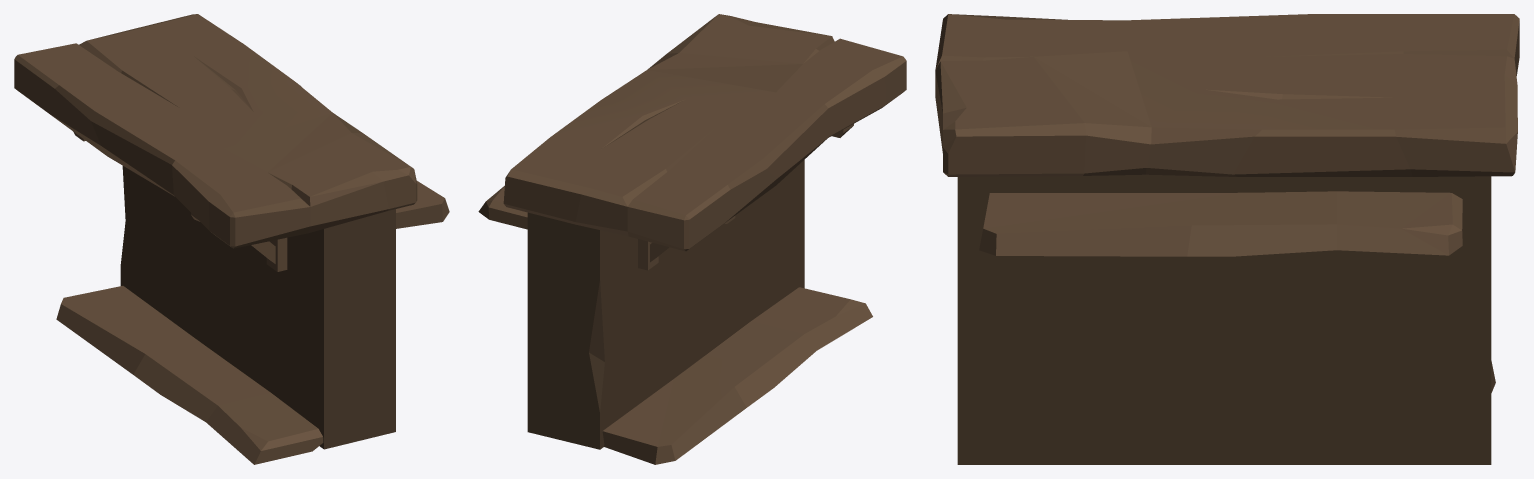
Rendered from kingdom_SM_Prop_Bar_01.gltf.
The picture shows the model from 3 angles, left to right: view 1: azimuth 30°, elevation 25°; view 2: azimuth 150°, elevation 25°; view 3: azimuth 270°, elevation 25°; orthographic projection. The views are drawn at different scales.
Visible parts, largest first — view 1: SM_Prop_Bar_01; view 2: SM_Prop_Bar_01; view 3: SM_Prop_Bar_01.
Part boxes in pixels (x1=…): SM_Prop_Bar_01: x1=14, y1=14, x2=449, y2=464; SM_Prop_Bar_01: x1=478, y1=14, x2=906, y2=464; SM_Prop_Bar_01: x1=935, y1=14, x2=1519, y2=464.
Bounding box in the file's own units: 1.02 × 1.07 × 1.65.
Materials: 1 (1 with a texture image).
